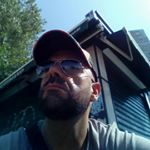other: (35, 60, 99, 118)
